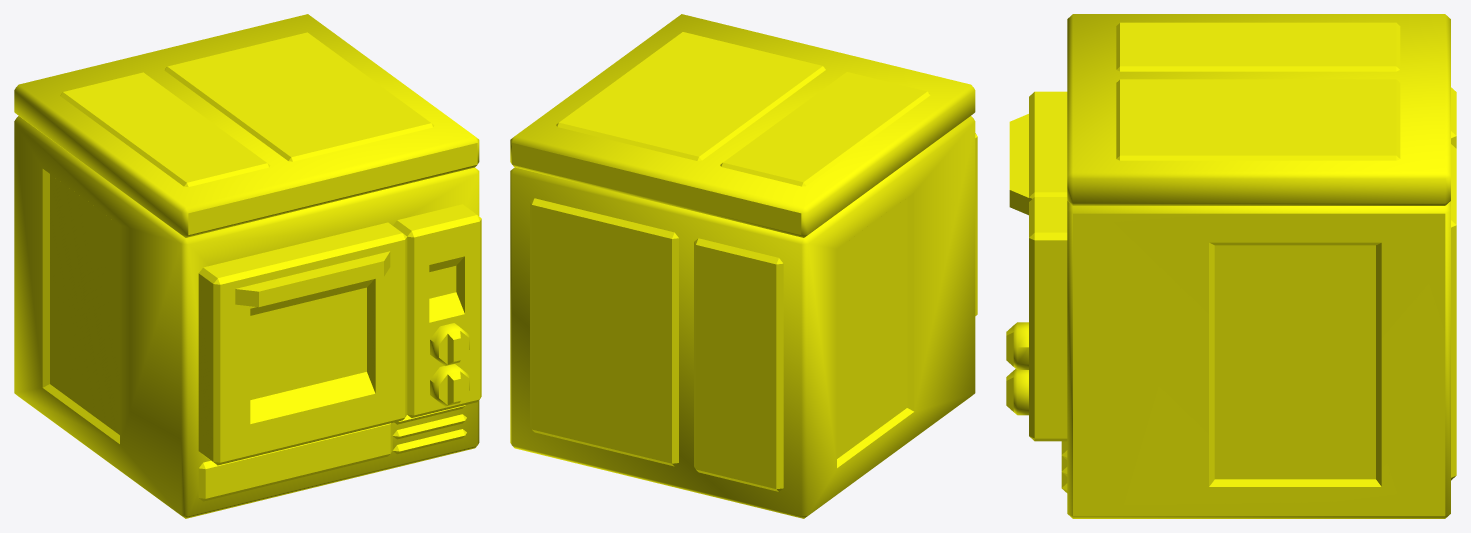
The model's file is oven.gltf.
3 views of the same model, side by side, from view 1: azimuth 30°, elevation 25°; view 2: azimuth 150°, elevation 25°; view 3: azimuth 270°, elevation 25° (orthographic). The views are drawn at different scales.
Parts seen in each view (by area): view 1: oven, oven_door; view 2: oven, oven_door; view 3: oven, oven_door.
Boxes of the visible parts, box(x1,y1,x2,y2) form: oven: box(14, 14, 481, 518); oven_door: box(198, 222, 407, 465); oven: box(510, 14, 975, 518); oven_door: box(975, 133, 977, 315); oven: box(1006, 14, 1456, 518); oven_door: box(1009, 91, 1067, 215).
Size of the model in its own units: 2 by 2.02 by 2.35.
Materials: 1 (1 with a texture image).
